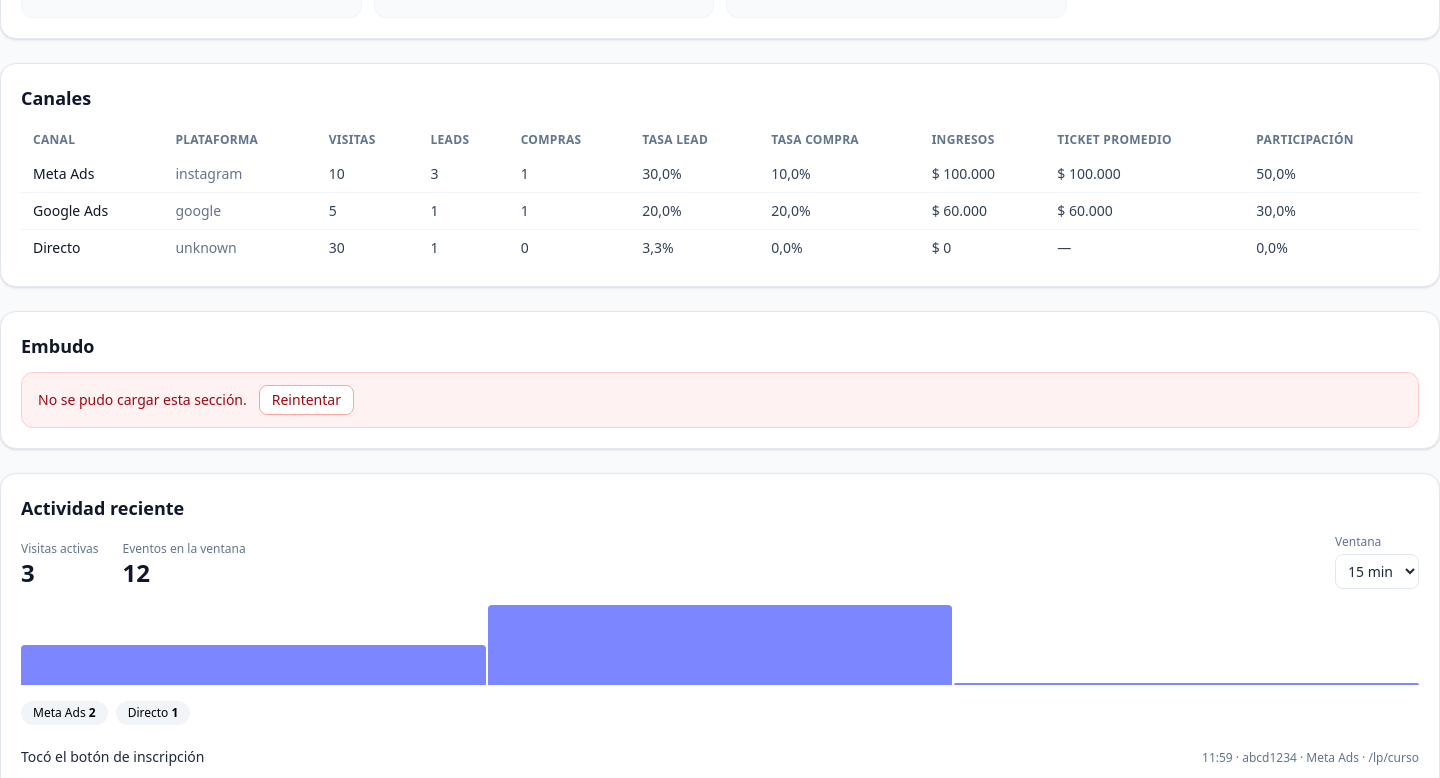
Scenario: AcquisitionPage › retrying a failed report shows it loading again
The image size is (1440, 778).
(page scrolled)
Click the button "Reintentar": {"x": 306, "y": 400} [259,385,354,415]
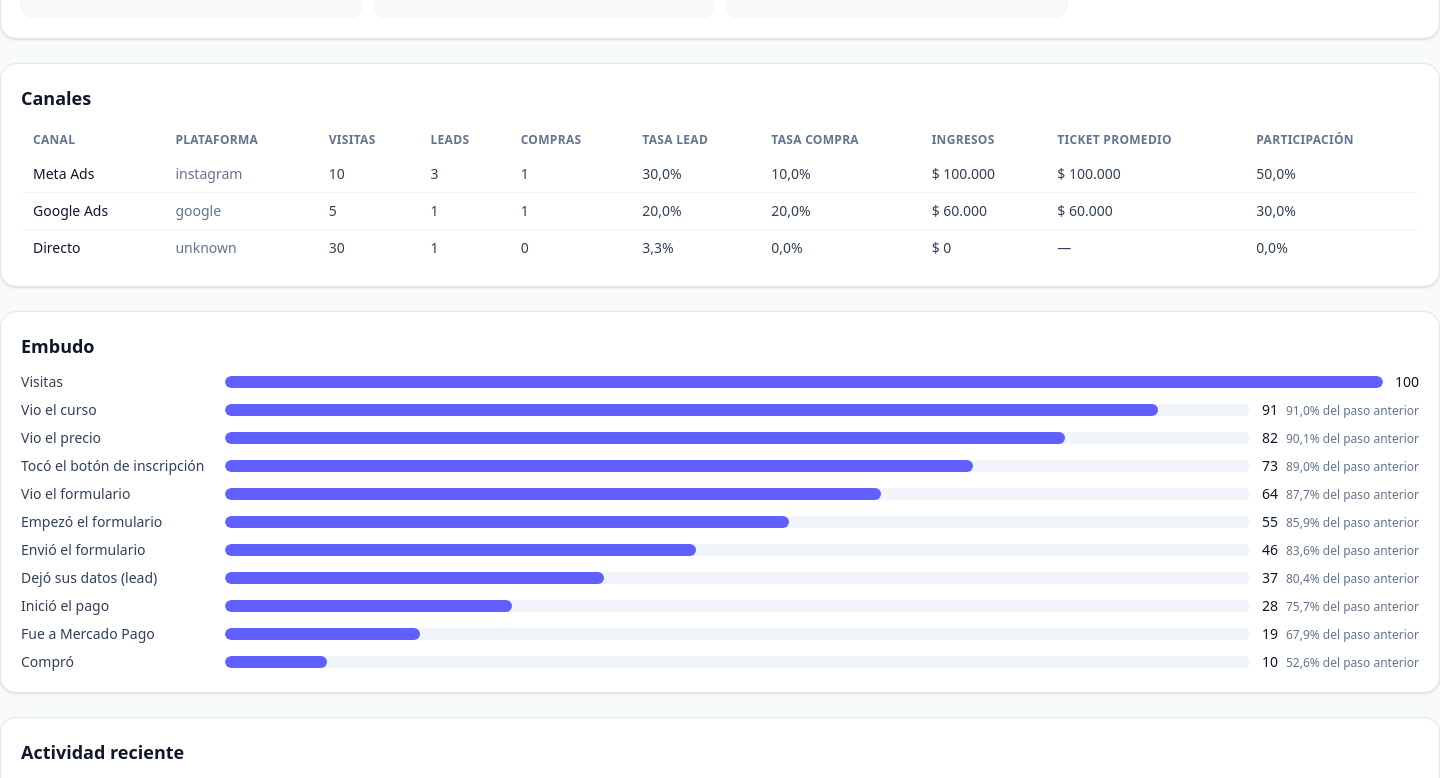
Expected: the list is shown, [21,372,1419,672]
